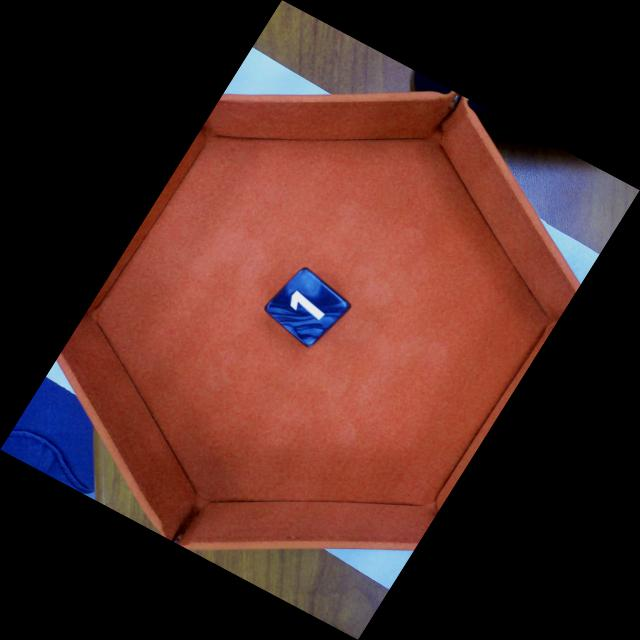dice: (270, 272, 347, 342)
